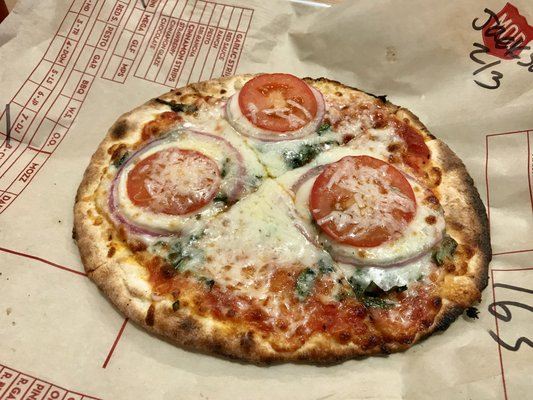sandwich: (66, 71, 491, 365)
